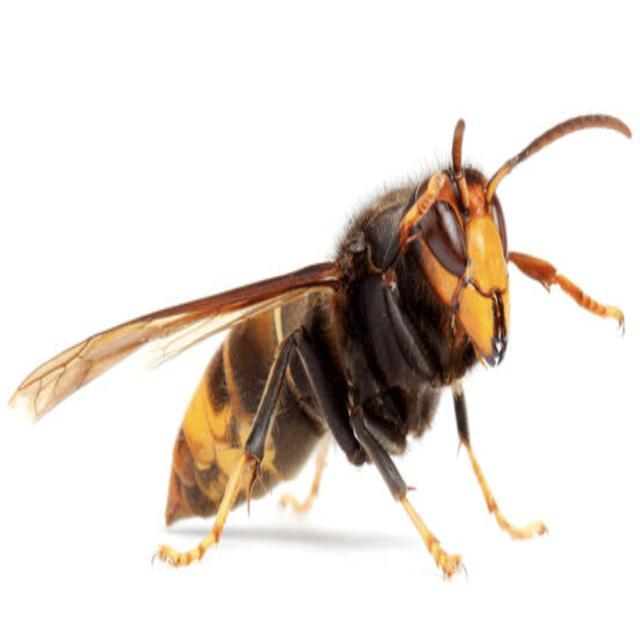Wasp: (20, 105, 630, 580)
